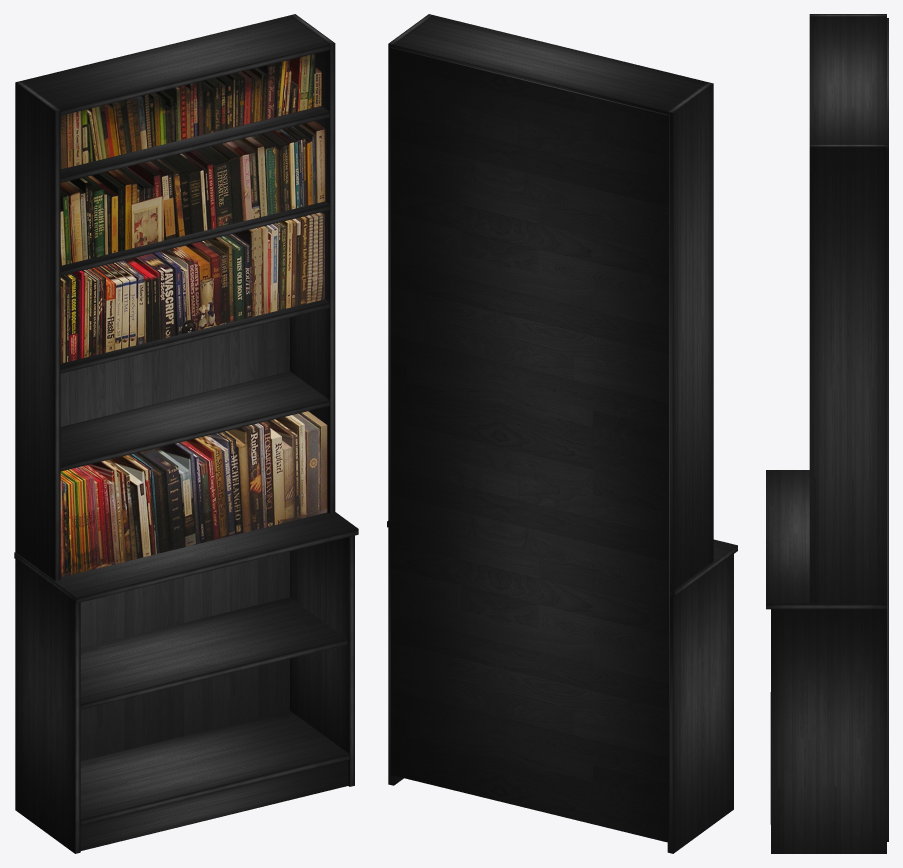
The model's file is full-bookcase.obj.
3 renders of one model, left to right at view 1: azimuth 30°, elevation 25°; view 2: azimuth 150°, elevation 25°; view 3: azimuth 270°, elevation 25°, orthographic. The views are drawn at different scales.
Visible parts, largest first — view 1: Bookcase, Books_4, Books_3, Books_2, Books_1; view 2: Bookcase; view 3: Bookcase.
Part boxes in pixels (x1=…): Bookcase: x1=14, y1=14, x2=358, y2=853; Books_4: x1=60, y1=411, x2=327, y2=577; Books_3: x1=60, y1=212, x2=324, y2=363; Books_2: x1=60, y1=121, x2=325, y2=265; Books_1: x1=60, y1=53, x2=321, y2=169; Bookcase: x1=387, y1=14, x2=737, y2=853; Bookcase: x1=766, y1=14, x2=888, y2=853.
Bounding box in the file's own units: 80.08 × 197 × 31.
5 materials, 5 textured.
